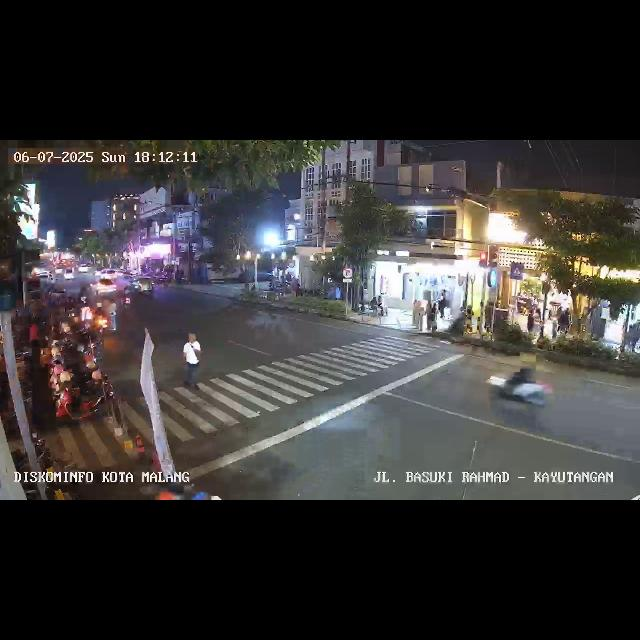car: (130, 276, 156, 296)
motorcycle: (486, 356, 554, 416)
person: (180, 330, 203, 390), (426, 298, 438, 334), (411, 298, 423, 332), (107, 299, 119, 333), (558, 306, 570, 338), (465, 302, 475, 334), (438, 292, 448, 322), (524, 305, 534, 335), (376, 292, 386, 318), (534, 306, 542, 336), (632, 318, 638, 352)
